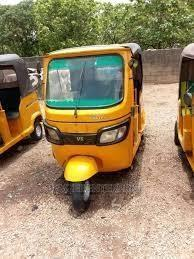keke: (41, 41, 147, 208)
